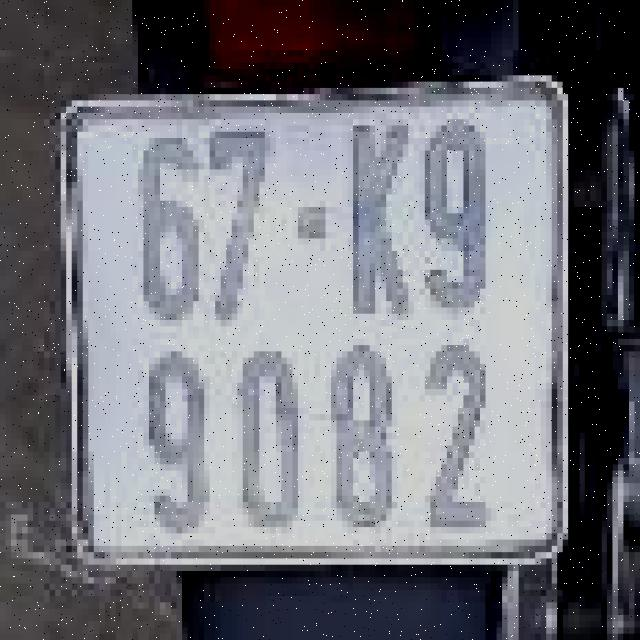0: (232, 348, 309, 530)
2: (414, 336, 496, 536)
6: (122, 128, 198, 330)
7: (204, 116, 282, 323)
8: (323, 342, 400, 536)
9: (414, 107, 502, 320), (138, 348, 210, 543)
K: (336, 107, 419, 320)
